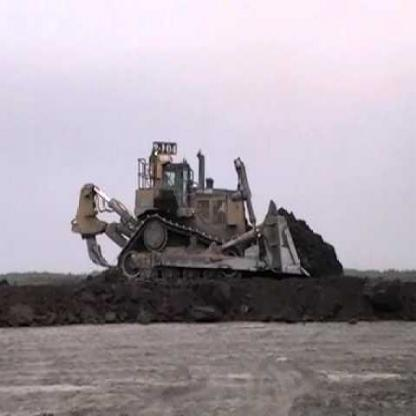bull_dozer/loader/grader: (72, 133, 349, 285)
